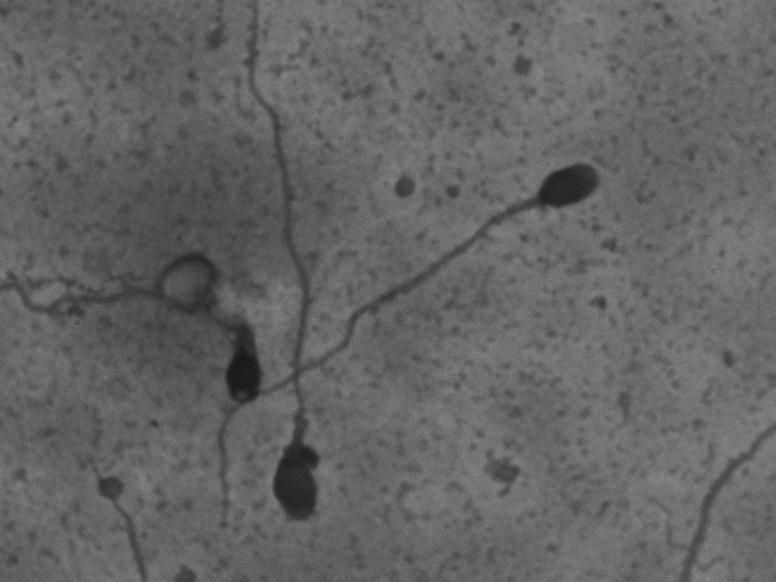Abnormal: (22, 239, 267, 408), (265, 8, 337, 525)
Normal: (211, 152, 607, 527)
